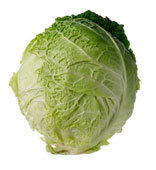cabbage: (9, 9, 142, 157)
